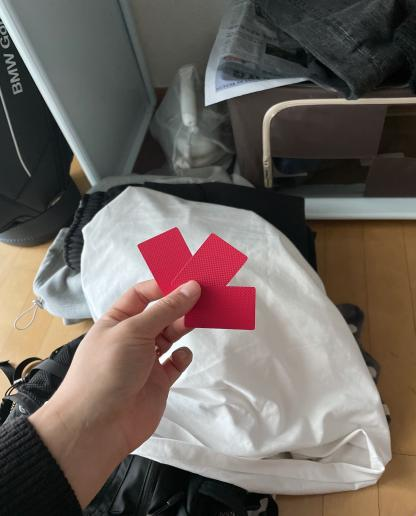ThreeHwatoo: (118, 216, 280, 340)
